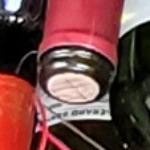bottle: (21, 29, 120, 113)
